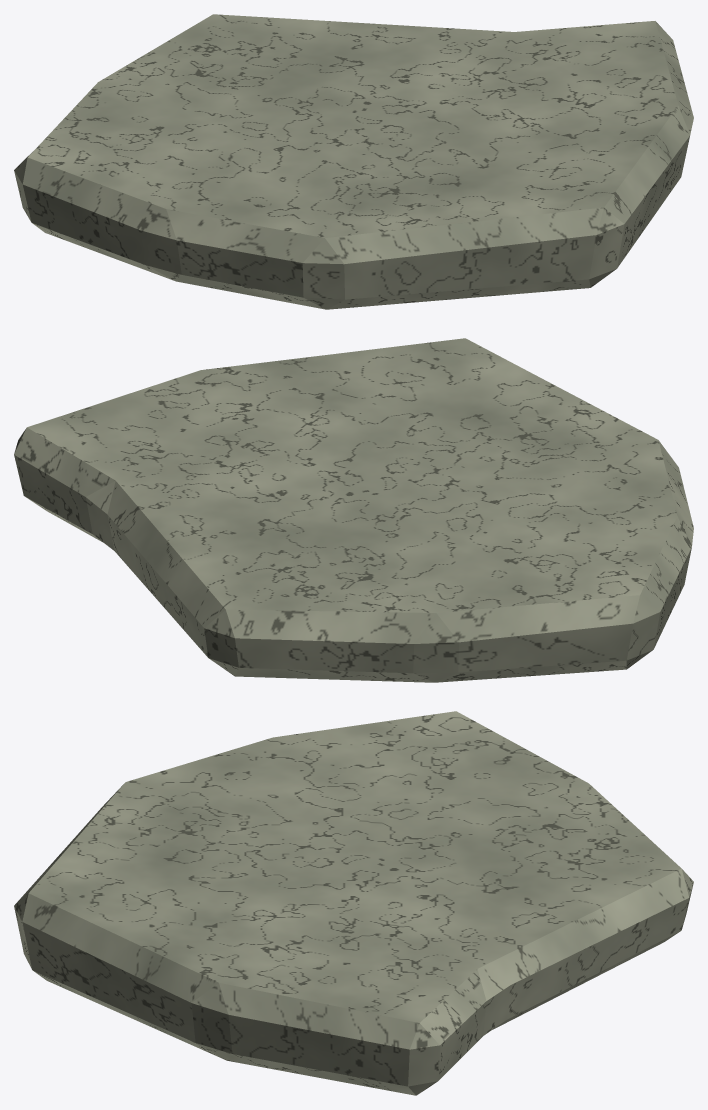
The model's file is PathStone_B.fbx.
The picture shows the model from 3 angles, top to bottom: view 1: azimuth 30°, elevation 25°; view 2: azimuth 150°, elevation 25°; view 3: azimuth 270°, elevation 25°; orthographic projection. The views are drawn at different scales.
Parts seen in each view (by area): view 1: PathStone_B.001; view 2: PathStone_B.001; view 3: PathStone_B.001.
Part boxes in pixels (bbox=[...]): PathStone_B.001: bbox=[14, 14, 693, 309]; PathStone_B.001: bbox=[14, 338, 693, 682]; PathStone_B.001: bbox=[14, 711, 693, 1095].
Bounding box in the file's own units: 0.6703 × 0.0864 × 0.5919.
